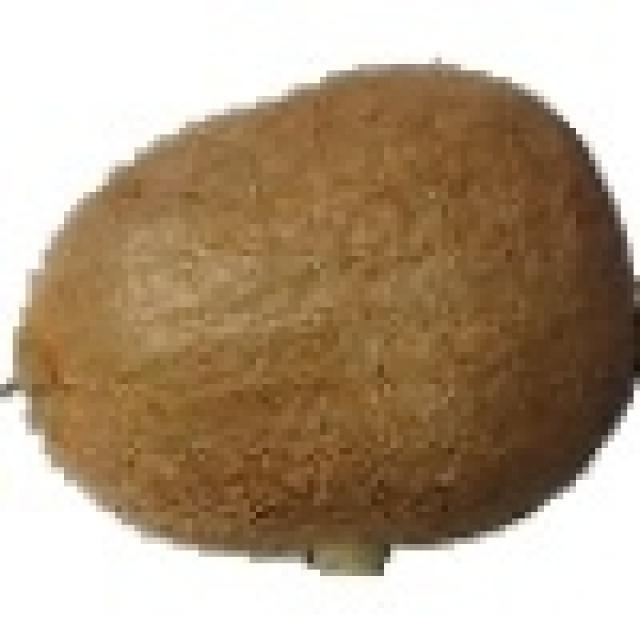kiwi: (13, 58, 621, 557)
